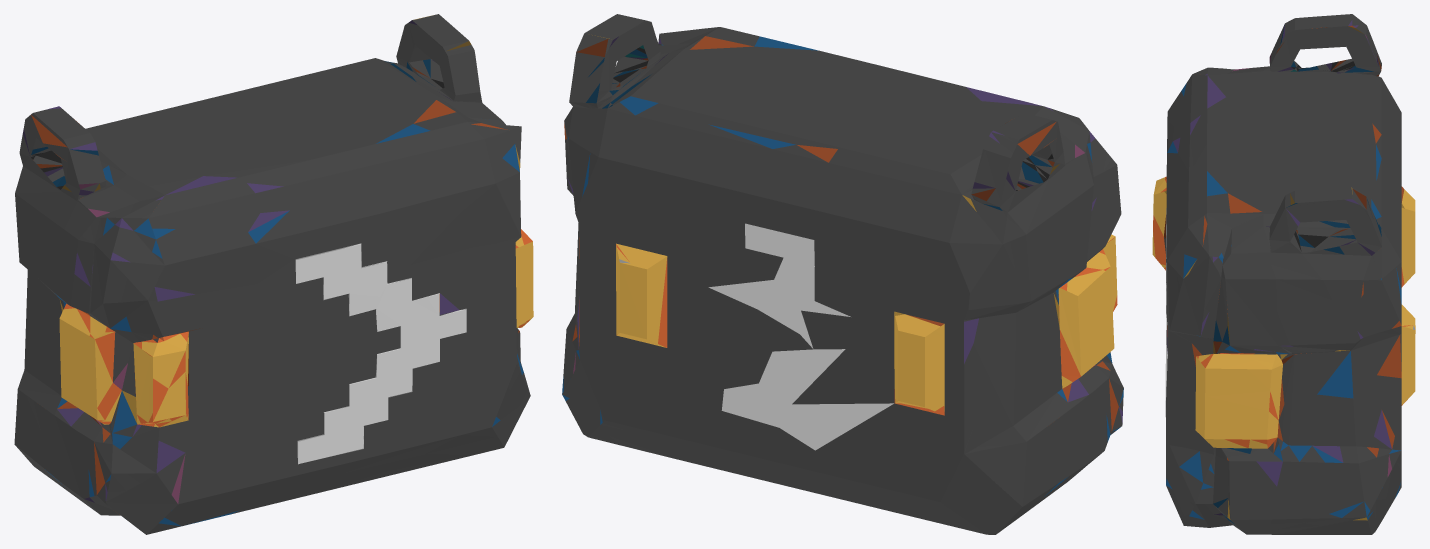
Rendered from ping_bag.glb.
3 renders of one model, left to right at view 1: azimuth 30°, elevation 25°; view 2: azimuth 150°, elevation 25°; view 3: azimuth 270°, elevation 25°, orthographic. The views are drawn at different scales.
Parts seen in each view (by area): view 1: node_0; view 2: node_0; view 3: node_0.
Boxes of the visible parts, x1=… form: node_0: x1=14, y1=14, x2=533, y2=534; node_0: x1=562, y1=14, x2=1123, y2=534; node_0: x1=1152, y1=14, x2=1415, y2=534.
Bounding box in the file's own units: 1 × 0.7951 × 0.5565.
